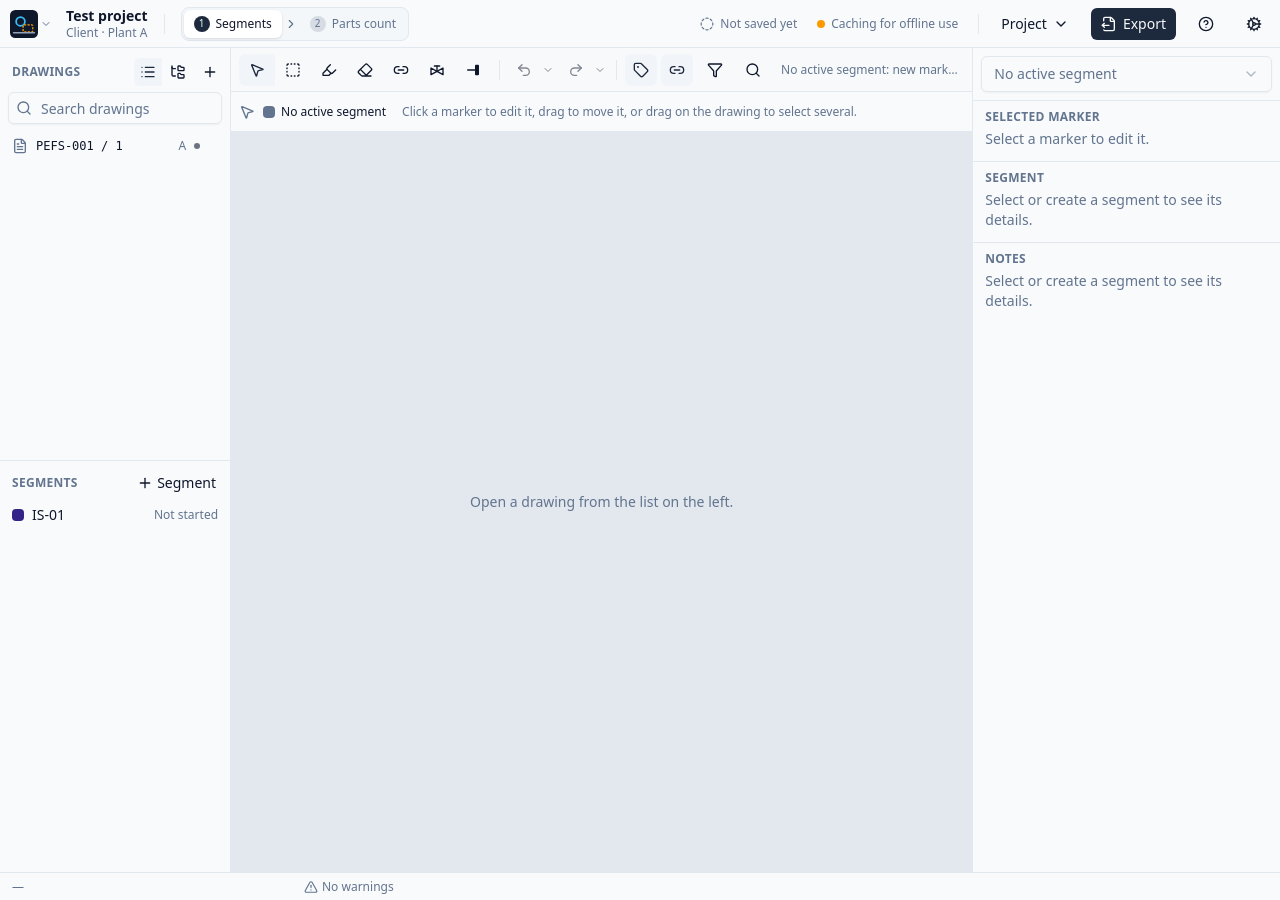
it: App shell › tints the toolbar with the active segment (SEG-06)
expect the element with test id "active-segment-chip" shows "unassigned": met, box 781,60 -> 972,78
Click the text "IS-01". click: {"x": 48, "y": 514}
box: 32,504 -> 65,524
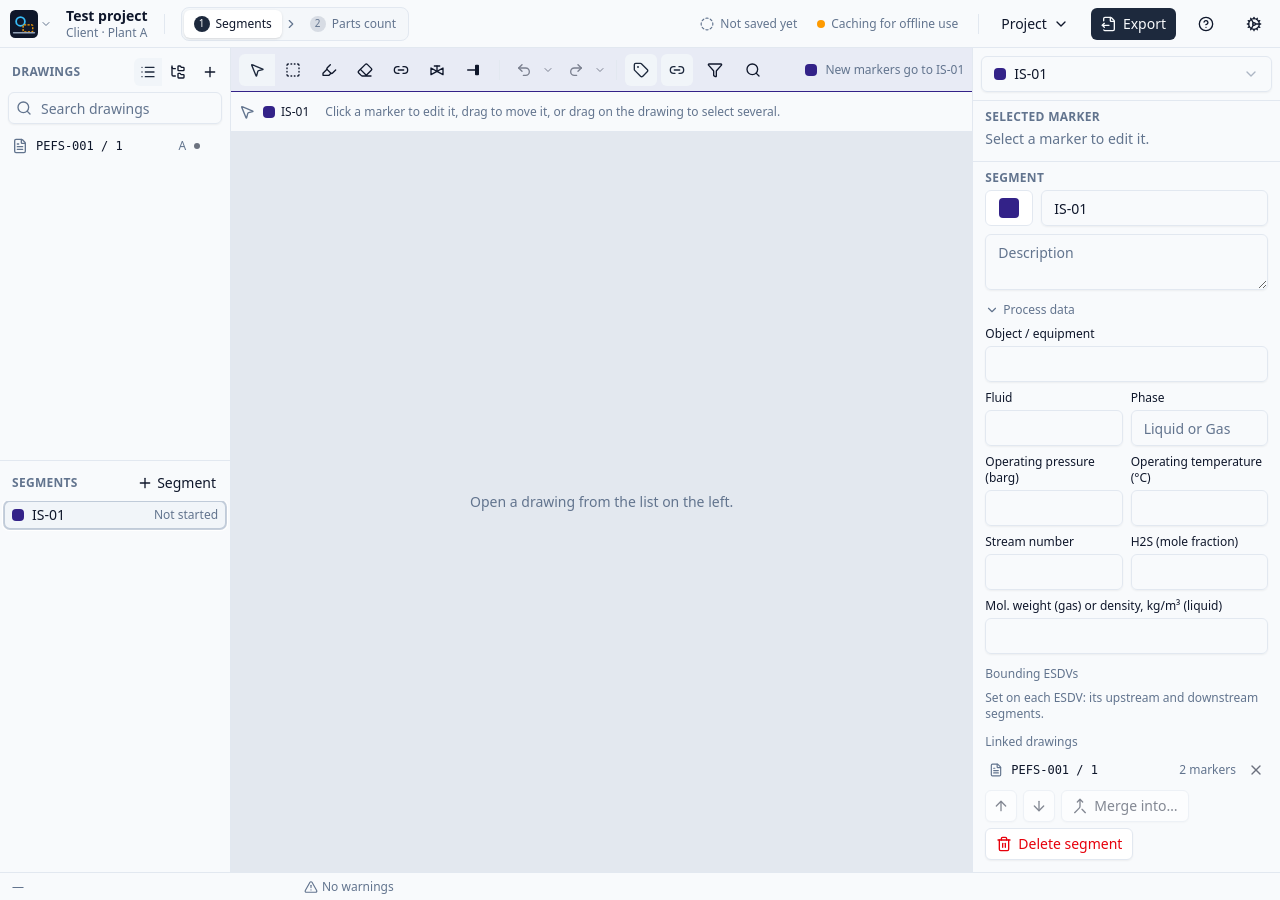
expect the element with test id "active-segment-chip" reads "New markers go to IS-01": met, box 825,60 -> 964,78
